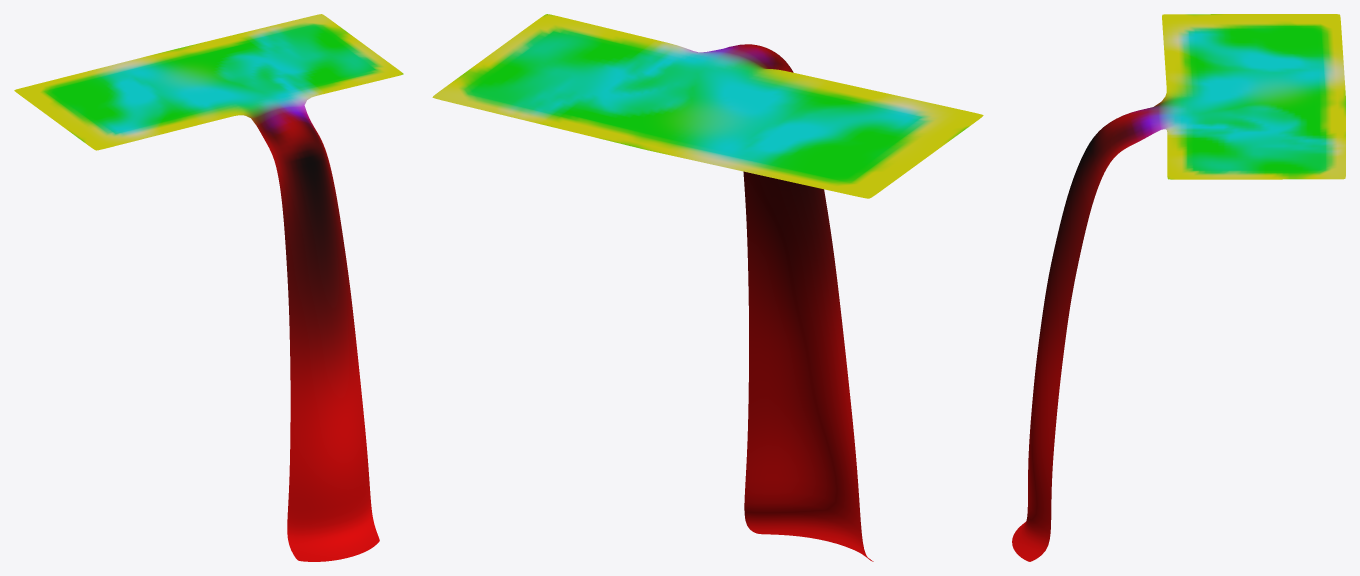
The model's file is mesh_lavefall.fbx.
The picture shows the model from 3 angles, left to right: view 1: azimuth 30°, elevation 25°; view 2: azimuth 150°, elevation 25°; view 3: azimuth 270°, elevation 25°; orthographic projection. The views are drawn at different scales.
Parts seen in each view (by area): view 1: 平面; view 2: 平面; view 3: 平面.
Boxes of the visible parts, left/top/right/bottom form: 平面: left=14, top=14, right=403, bottom=561; 平面: left=432, top=14, right=983, bottom=561; 平面: left=1012, top=14, right=1345, bottom=561.
Bounding box in the file's own units: 581 × 714 × 500.
